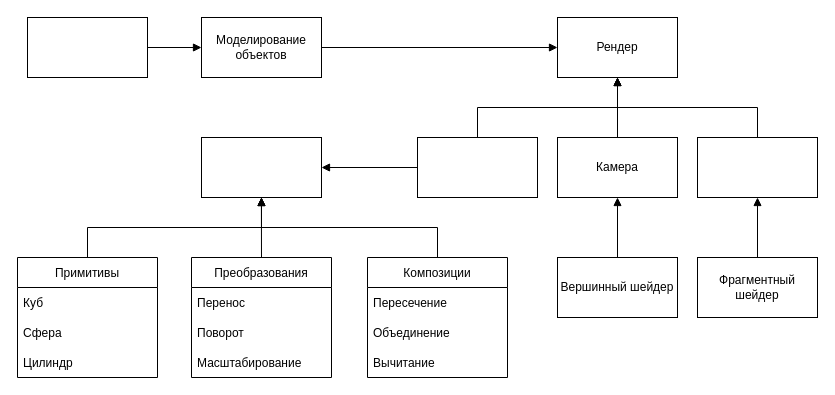
Image size: 835x395. Some labels were removed from this diagram. The shapes that lost their labels are listed below. From the top down, each one's centre as x and y in pixels, then its label:
point 87,47: Графический интерфейс
point 261,167: Объект моделирования
point 477,167: SDF
point 757,167: Освещение
